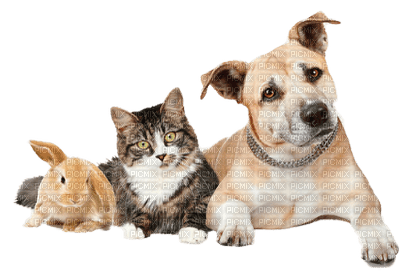cat: (108, 99, 203, 241)
dog: (209, 14, 369, 220)
rabbit: (22, 148, 116, 232)
